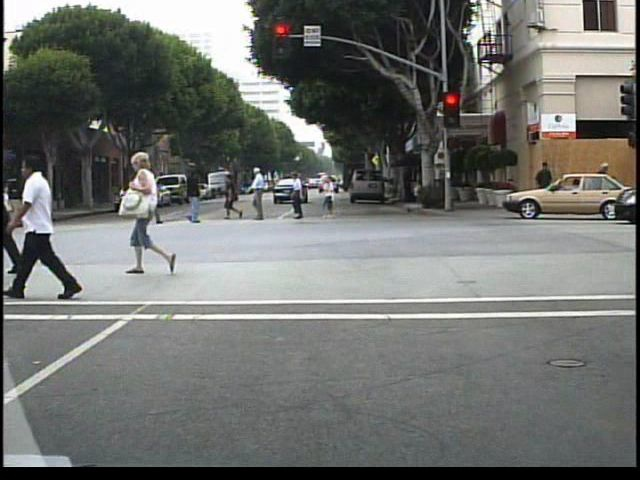person: (38, 152, 109, 299), (121, 150, 185, 280), (247, 166, 277, 222), (180, 170, 206, 228), (590, 158, 613, 213), (222, 169, 245, 223), (290, 169, 313, 223), (534, 157, 555, 212), (143, 171, 163, 225), (4, 183, 24, 235), (17, 195, 38, 238)
